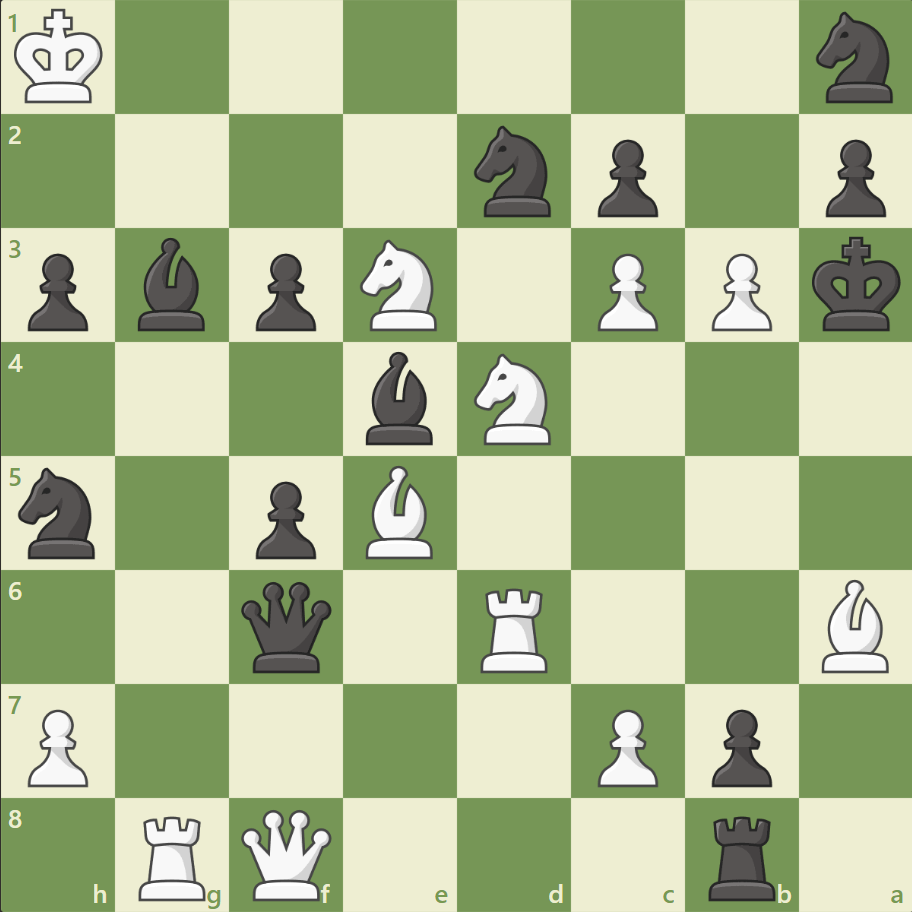B: (358, 460, 442, 563), (812, 574, 896, 676)
K: (11, 4, 111, 112)
N: (351, 234, 449, 337), (465, 348, 562, 450)
P: (20, 700, 95, 791), (701, 246, 776, 337), (588, 700, 662, 791), (588, 246, 662, 337)
Q: (237, 804, 336, 903)
R: (473, 579, 556, 676), (133, 806, 215, 904)
b: (131, 233, 215, 336), (358, 347, 442, 449)
k: (806, 231, 906, 339)
n: (11, 461, 108, 564), (806, 7, 903, 110), (465, 121, 562, 223)
p: (701, 700, 776, 791), (247, 473, 322, 564), (247, 246, 322, 337), (20, 246, 95, 337), (815, 132, 889, 223), (588, 132, 662, 223)
q: (237, 576, 336, 676)
r: (700, 806, 783, 904)
